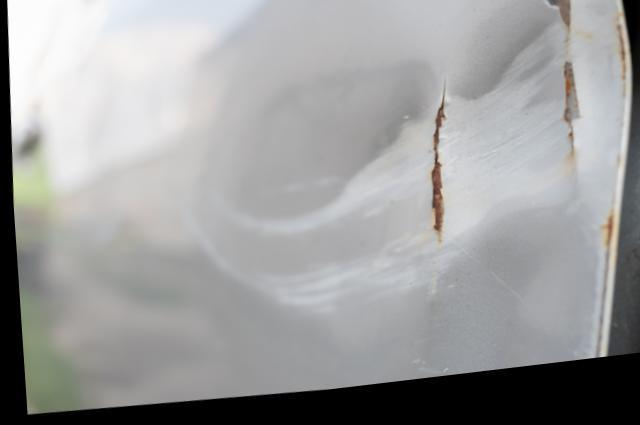dent: (187, 6, 623, 297)
